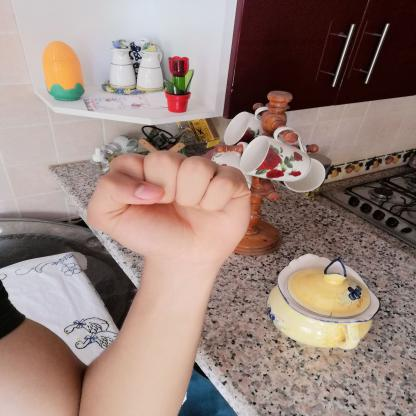SAD: (66, 138, 276, 280)
